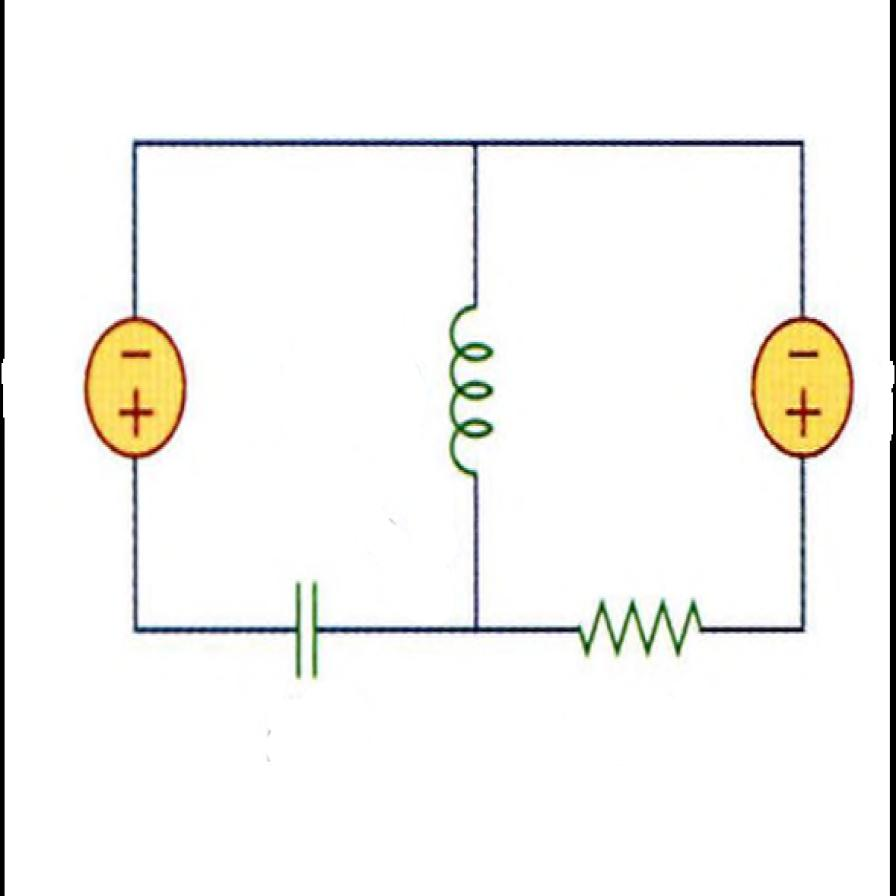L2: (436, 265, 501, 504)
V3: (72, 315, 193, 465), (749, 310, 854, 461)
